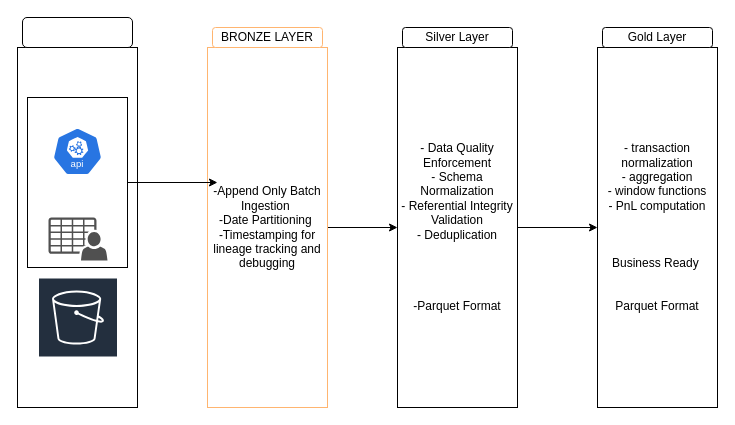
The diagram is 735 pixels wide and 425 high, and some of its shapes have lost their labels. The shapes that lost their labels are listed below. From the top down, each one's centre as x and y in pixels, then its label:
At [77,32]: "UPSTREAM SOURCE".
At [77,327]: "Amazon S3".
